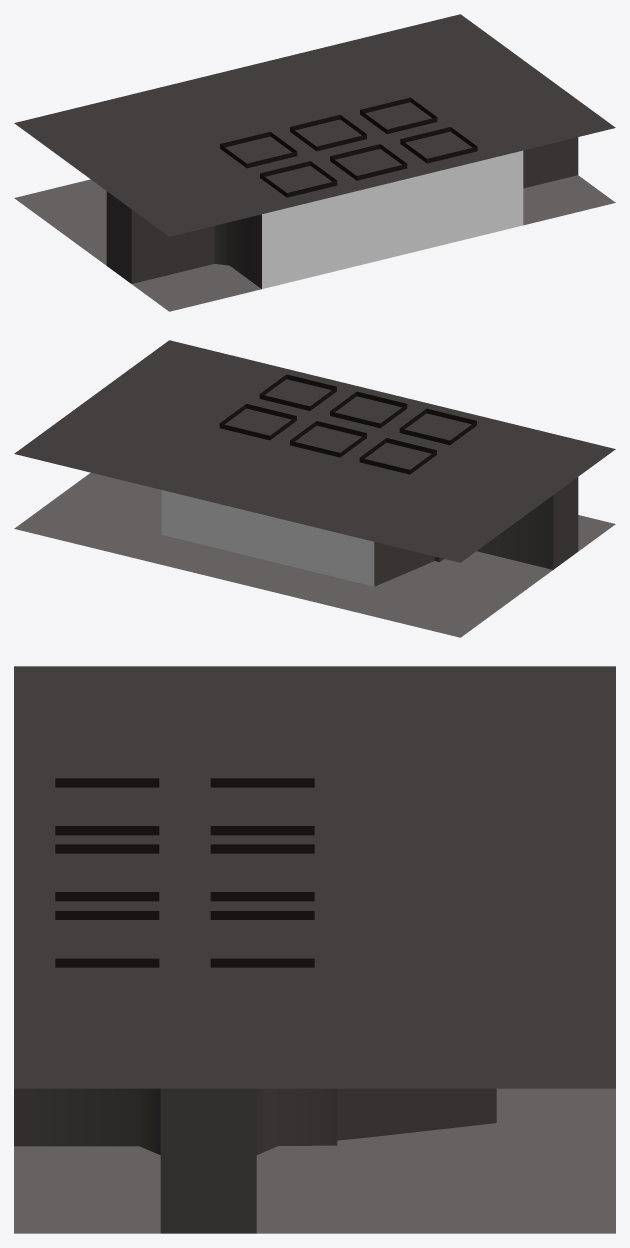
Rendered from gnuchanos show studio.glb.
The picture shows the model from 3 angles, top to bottom: view 1: azimuth 30°, elevation 25°; view 2: azimuth 150°, elevation 25°; view 3: azimuth 270°, elevation 25°; orthographic projection. The views are drawn at different scales.
Visible parts, largest first — view 1: level.001, level; view 2: level.001, level, green_screen; view 3: level.001, level.
Boxes of the visible parts, x1,y1,x2,y2 form: level.001: (14, 14, 615, 236); level: (14, 137, 615, 311); level.001: (14, 340, 615, 562); level: (14, 472, 615, 637); green_screen: (161, 490, 374, 586); level.001: (14, 666, 615, 1088); level: (14, 1088, 615, 1233).
Size of the model in its own units: 30.02 by 5.12 by 18.09.
5 materials, 1 textured.
